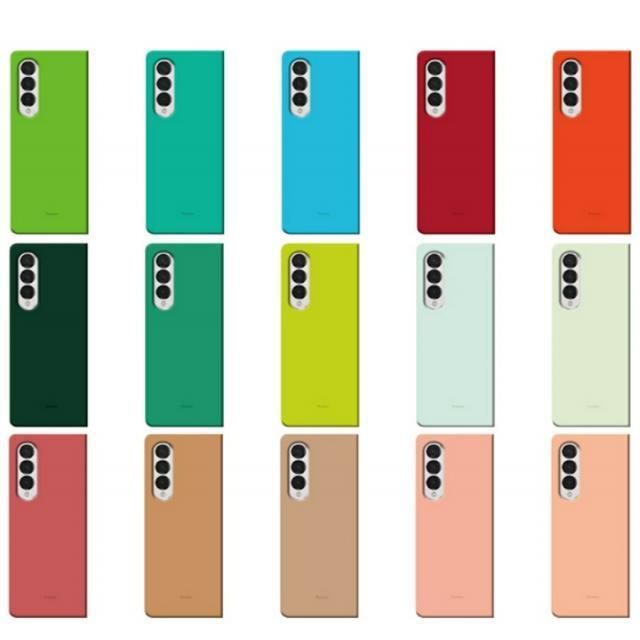phone: (144, 48, 226, 235), (414, 432, 496, 618), (279, 433, 360, 619), (416, 48, 496, 235), (552, 48, 632, 234), (280, 241, 360, 427), (552, 242, 632, 428), (8, 432, 88, 618), (10, 49, 90, 234), (281, 48, 360, 235), (416, 244, 496, 428), (551, 434, 630, 618), (144, 242, 222, 428), (146, 432, 223, 618), (11, 241, 88, 426)
